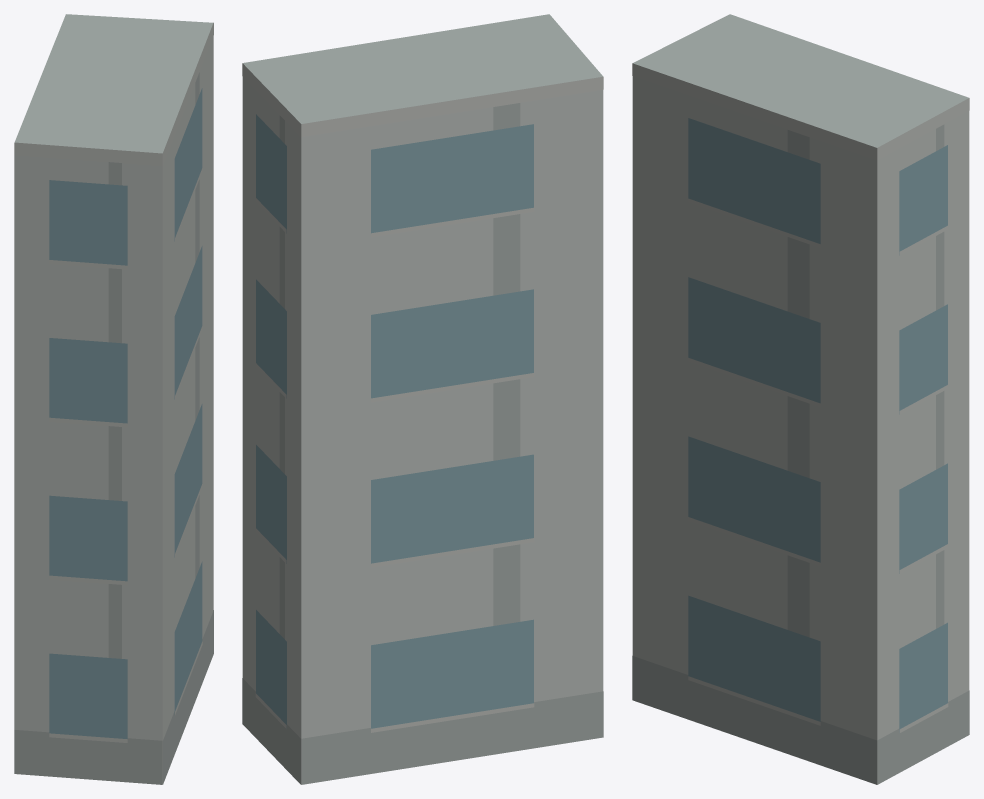
Rendered from survey-upis-32744383.glb.
The picture shows the model from 3 angles, left to right: view 1: azimuth 30°, elevation 25°; view 2: azimuth 150°, elevation 25°; view 3: azimuth 270°, elevation 25°; orthographic projection. The views are drawn at different scales.
Visible parts, largest first — view 1: survey-upis-32744383.tmp; view 2: survey-upis-32744383.tmp; view 3: survey-upis-32744383.tmp.
Boxes of the visible parts, x1,y1,x2,y2 form: survey-upis-32744383.tmp: [14, 14, 213, 784]; survey-upis-32744383.tmp: [242, 14, 603, 784]; survey-upis-32744383.tmp: [632, 14, 969, 784].
Size of the model in its own units: 5.51 by 12.2 by 5.86.
